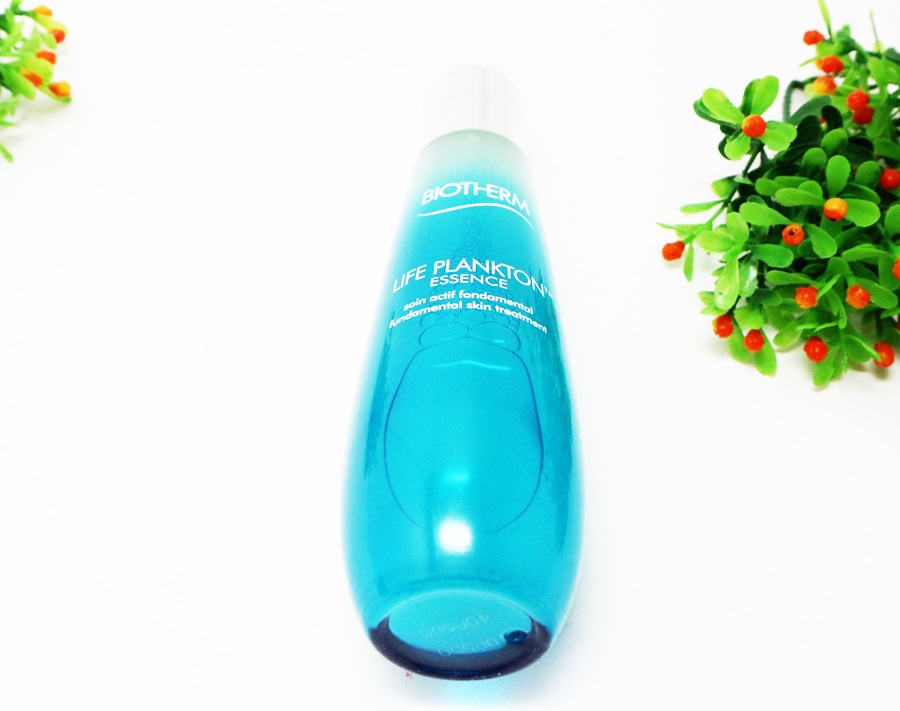cosmetics: (328, 51, 593, 682)
